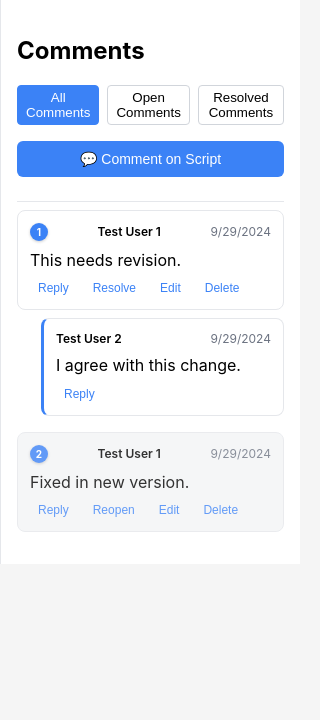
Scenario: CommentSidebar › Reply Functionality - TDD (Fixed: Mock pattern corrected) › should cancel reply form when cancel button is clicked
Click the button "Reply" below "This needs revision.": (53, 288) [30,279,77,297]
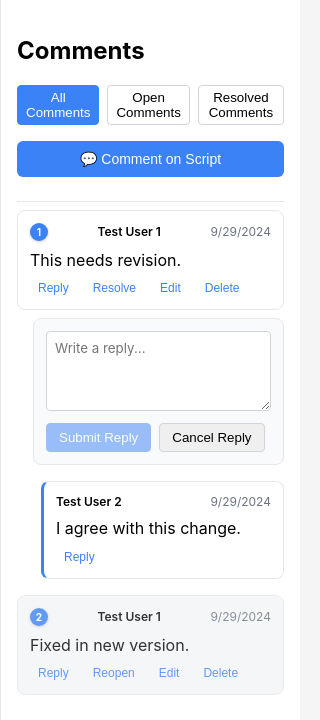
Click the button "Cancel Reply": (212, 438) [159,423,265,452]
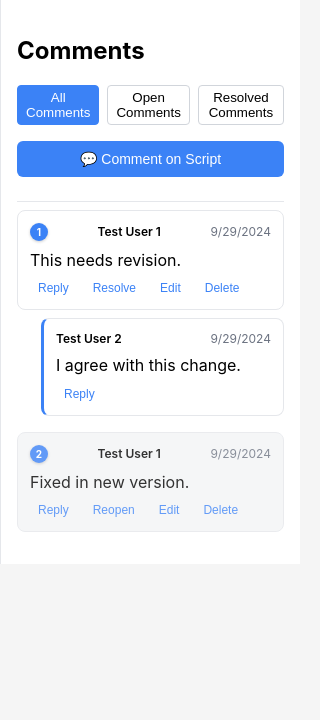
expect the form "reply form" is gone: met
